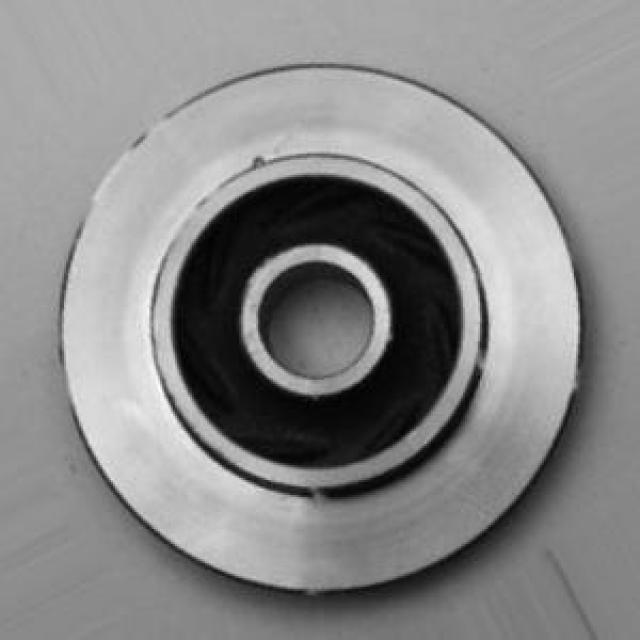Defect: (243, 151, 271, 171)
